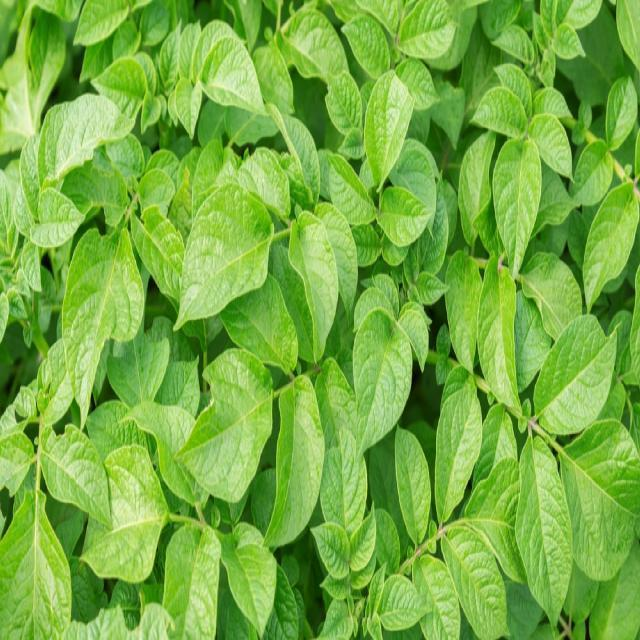Healthy Leaf: (170, 192, 279, 347), (20, 81, 127, 228), (63, 227, 138, 429), (172, 348, 272, 498), (518, 420, 572, 640), (1, 473, 71, 640), (537, 304, 617, 427), (270, 372, 320, 563), (284, 202, 340, 344), (40, 422, 118, 522), (352, 308, 407, 449), (588, 171, 640, 318), (440, 530, 510, 636), (483, 239, 524, 413), (492, 123, 537, 274), (436, 366, 478, 522), (200, 40, 268, 126), (366, 56, 408, 186), (408, 553, 462, 640), (393, 420, 428, 547), (380, 570, 436, 636), (376, 192, 432, 246), (326, 59, 362, 134), (348, 501, 378, 573)
